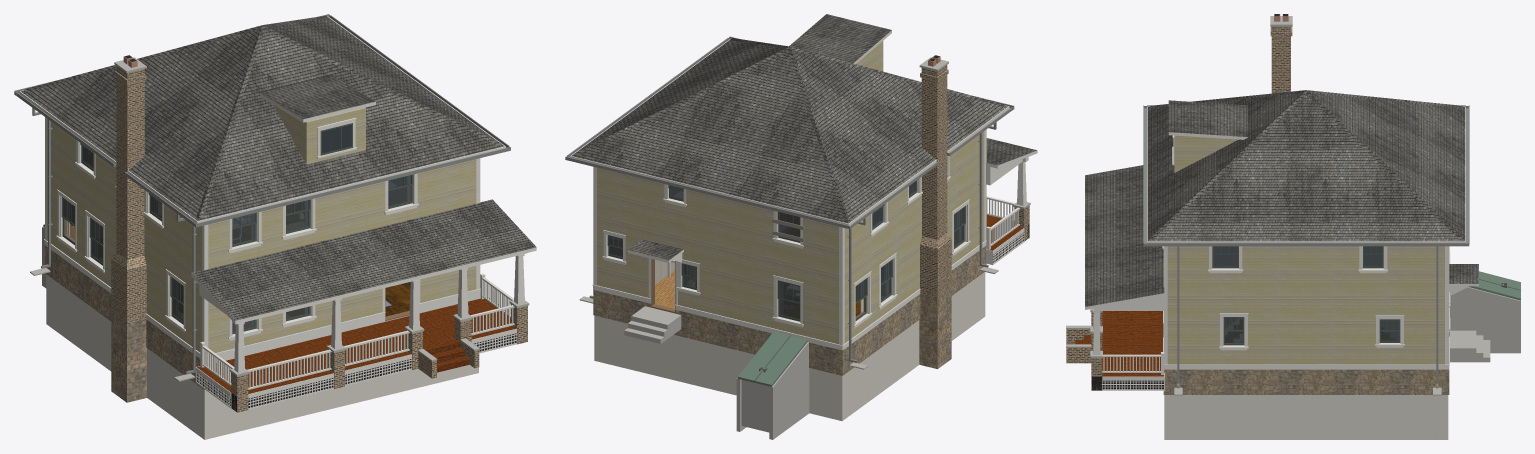
File: carrie_house.gltf
3 renders of one model, left to right at view 1: azimuth 30°, elevation 25°; view 2: azimuth 150°, elevation 25°; view 3: azimuth 270°, elevation 25°, orthographic. The views are drawn at different scales.
Parts seen in each view (by area): view 1: Structure_Roof, Structure_Porchandyard, Decor_Exteriorwalls, Structure_Exteriorwalls, Decor_Roof, Floor_Wood, Decor_Porchandyard; view 2: Structure_Roof, Decor_Exteriorwalls, Structure_Exteriorwalls, Structure_Porchandyard, Decor_Roof, Decor_Porchandyard, Floor_Concrete, Decor_Groundfloor, Floor_Wood, Floor_Tile; view 3: Structure_Roof, Decor_Exteriorwalls, Structure_Porchandyard, Structure_Exteriorwalls, Decor_Roof, Floor_Wood, Decor_Porchandyard, Floor_Concrete, Structure_Upstairs.
Part boxes in pixels (x1=…): Structure_Roof: x1=21, y1=18, x2=503, y2=402; Structure_Porchandyard: x1=42, y1=199, x2=536, y2=412; Decor_Exteriorwalls: x1=44, y1=117, x2=480, y2=389; Structure_Exteriorwalls: x1=46, y1=140, x2=478, y2=439; Decor_Roof: x1=14, y1=14, x2=510, y2=381; Floor_Wood: x1=89, y1=155, x2=516, y2=393; Decor_Porchandyard: x1=195, y1=297, x2=516, y2=409; Structure_Roof: x1=572, y1=14, x2=1007, y2=368; Decor_Exteriorwalls: x1=592, y1=129, x2=986, y2=375; Structure_Exteriorwalls: x1=594, y1=156, x2=985, y2=420; Structure_Porchandyard: x1=624, y1=138, x2=1037, y2=439; Decor_Roof: x1=565, y1=36, x2=1014, y2=369; Decor_Porchandyard: x1=627, y1=228, x2=1024, y2=380; Floor_Concrete: x1=624, y1=306, x2=680, y2=339; Decor_Groundfloor: x1=610, y1=211, x2=960, y2=313; Floor_Wood: x1=784, y1=214, x2=1023, y2=318; Floor_Tile: x1=655, y1=192, x2=696, y2=308; Structure_Roof: x1=1147, y1=14, x2=1465, y2=241; Decor_Exteriorwalls: x1=1163, y1=246, x2=1449, y2=394; Structure_Porchandyard: x1=1066, y1=165, x2=1520, y2=390; Structure_Exteriorwalls: x1=1162, y1=246, x2=1450, y2=439; Decor_Roof: x1=1143, y1=90, x2=1469, y2=395; Floor_Wood: x1=1075, y1=311, x2=1394, y2=376; Decor_Porchandyard: x1=1102, y1=264, x2=1520, y2=390; Floor_Concrete: x1=1449, y1=330, x2=1490, y2=357; Structure_Upstairs: x1=1214, y1=247, x2=1381, y2=265.
Bounding box in the file's own units: 11.72 × 11.92 × 16.33.
68 materials, 21 textured.
